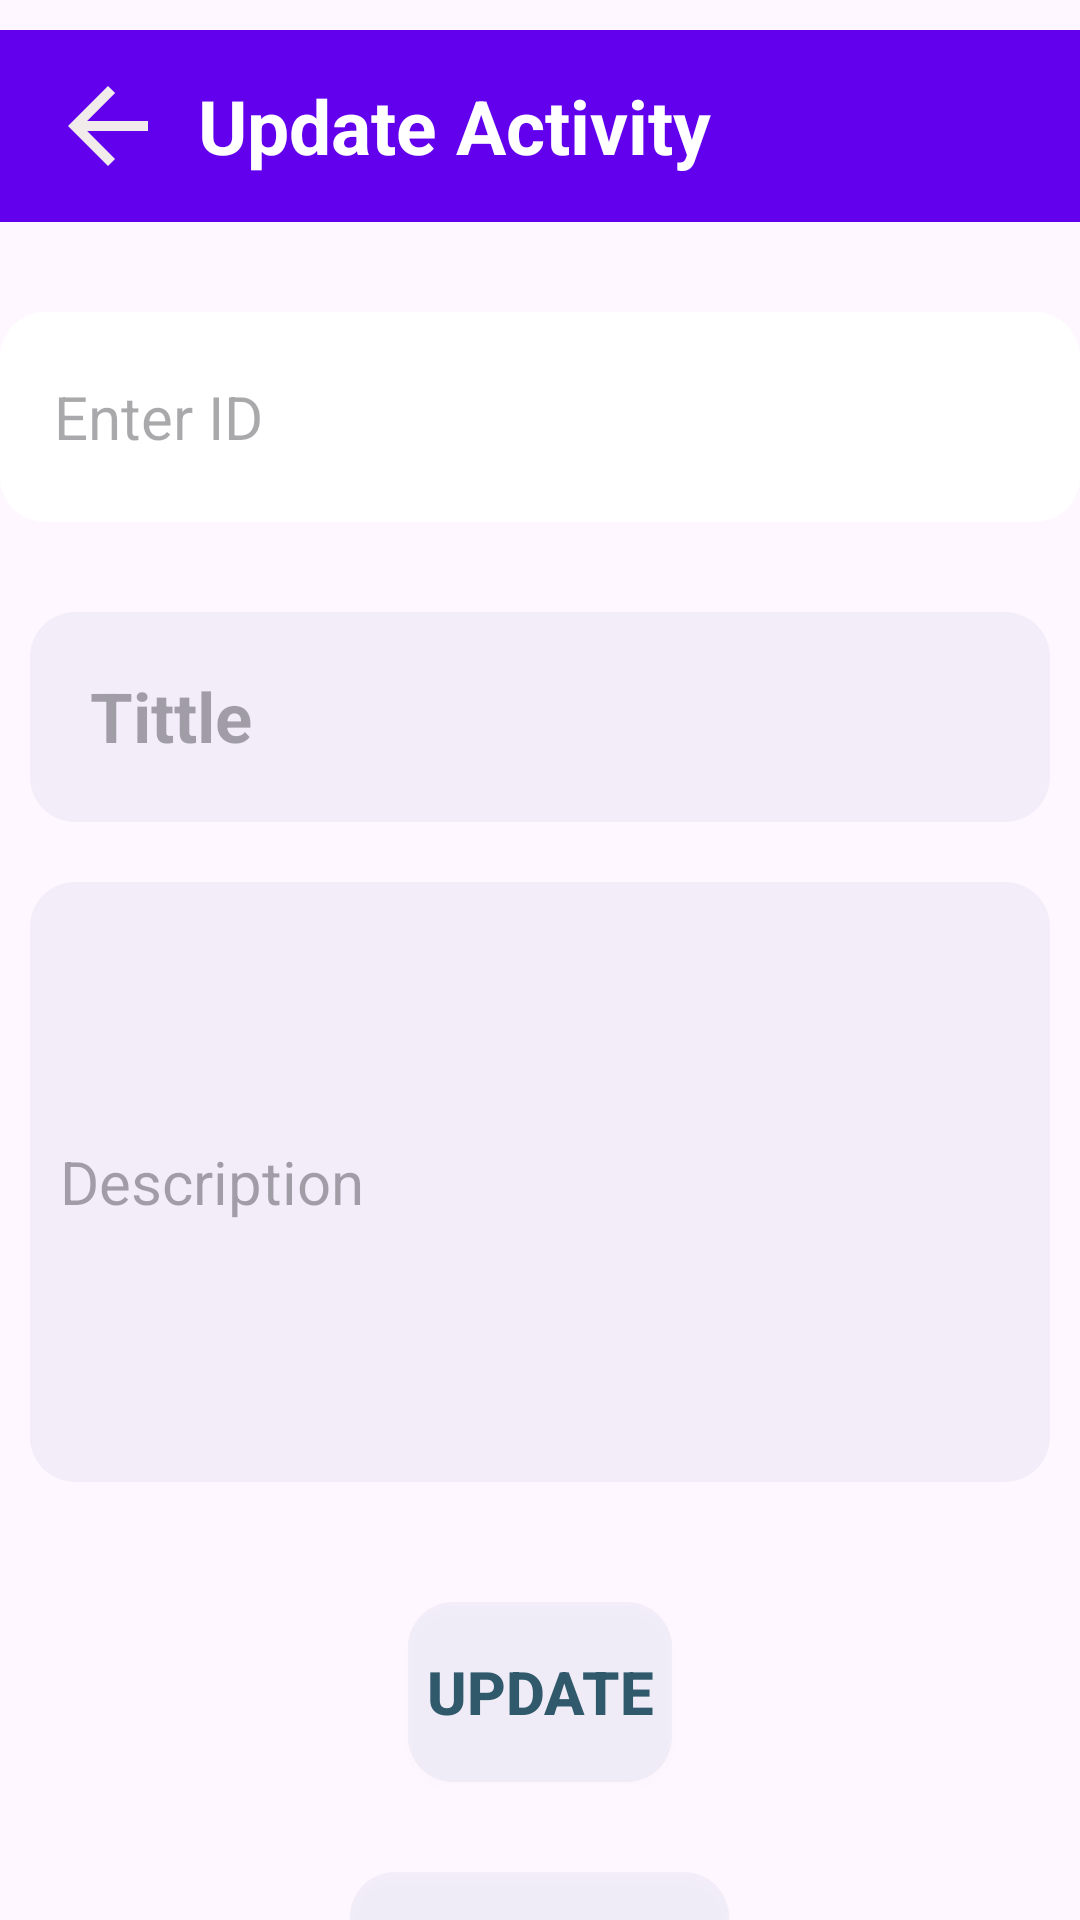

Screen size 1080 × 1920. Icon name, then its box in pixels as (x1, y1, x2, y2):
arrow back: (68, 86, 148, 166)
